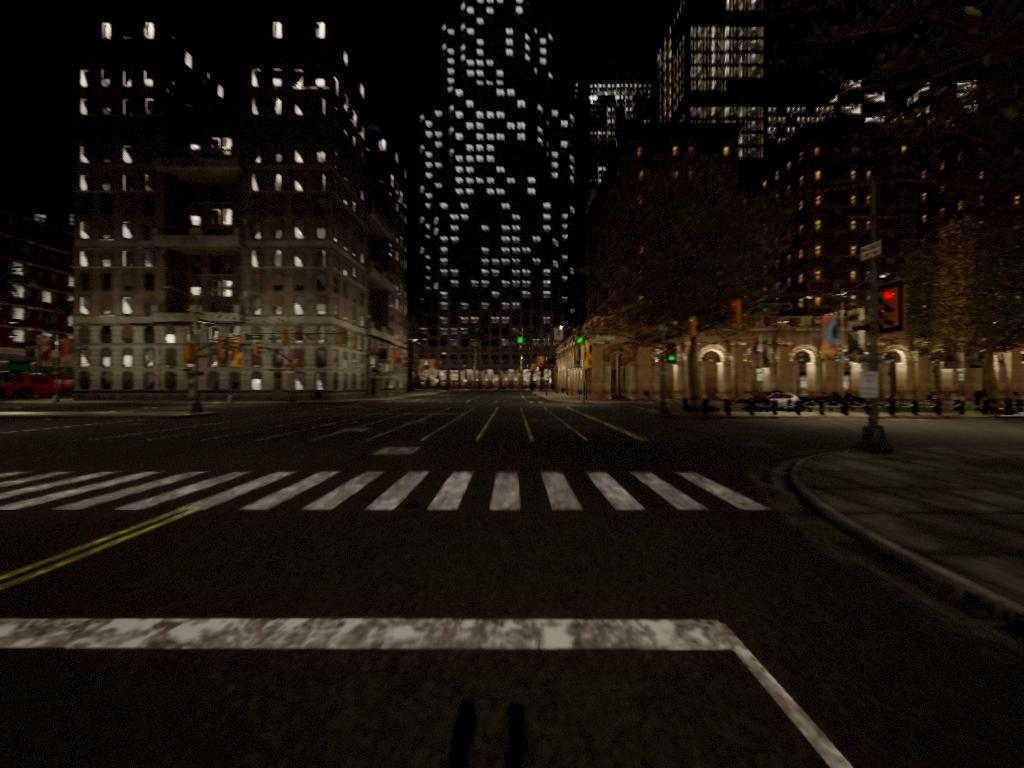traffic_light: (878, 283, 905, 331), (688, 316, 700, 340), (731, 301, 741, 329), (667, 343, 679, 365), (515, 327, 525, 347), (281, 331, 292, 348), (578, 328, 587, 347), (340, 330, 349, 346)
